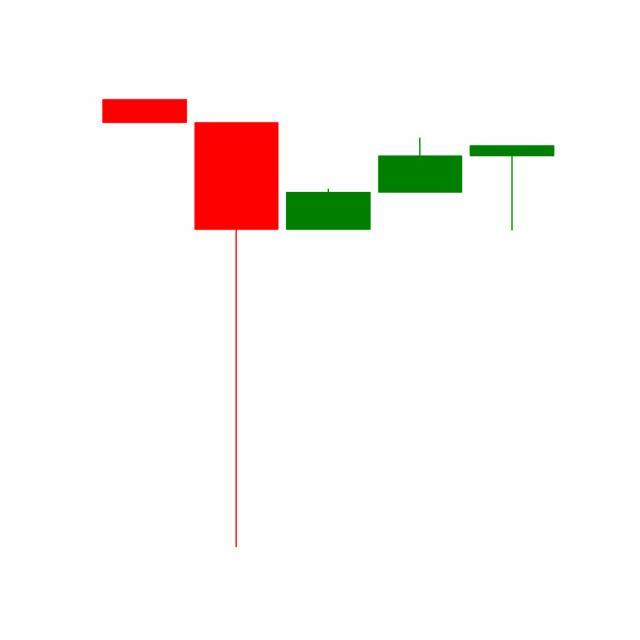Dragonfly Doji: (466, 145, 559, 233)
